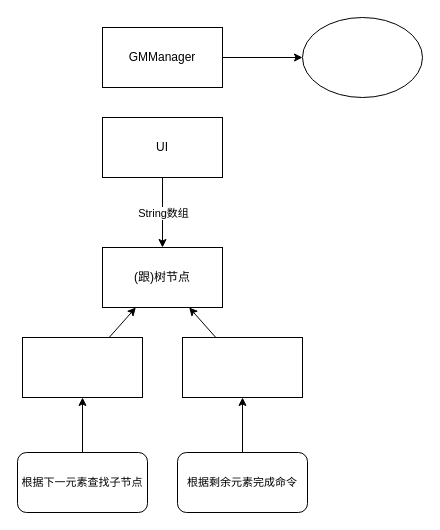
Some shapes in this 440 by 530 pixel diagram are drawn without their labels. The shapes that lost their labels are listed below. From the top down, each one's box as (x1, y1, x2, y2) in pixels, then its label:
(302, 16, 422, 98): 建树(反射)
(22, 336, 142, 398): (子)树节点
(182, 336, 302, 398): 指令节点
